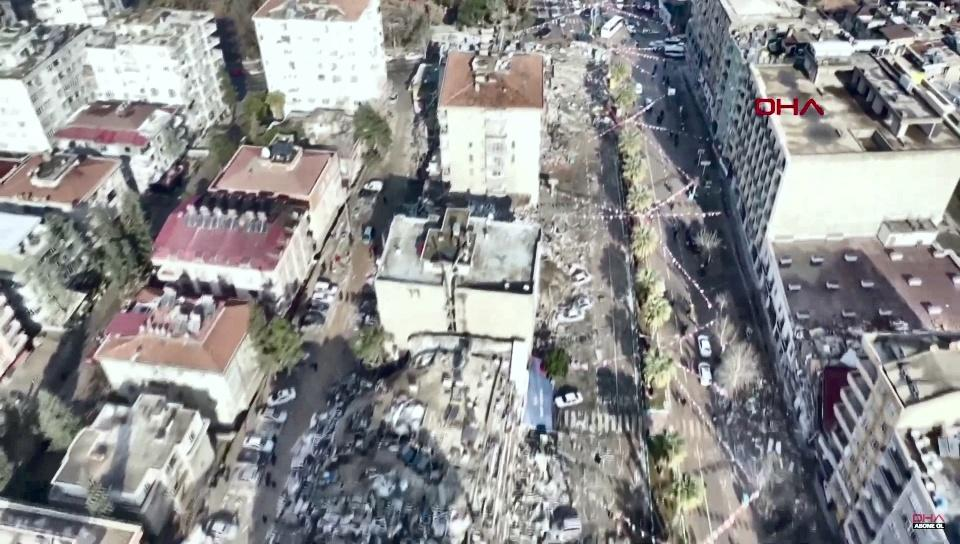kapali: (548, 35, 620, 191)
